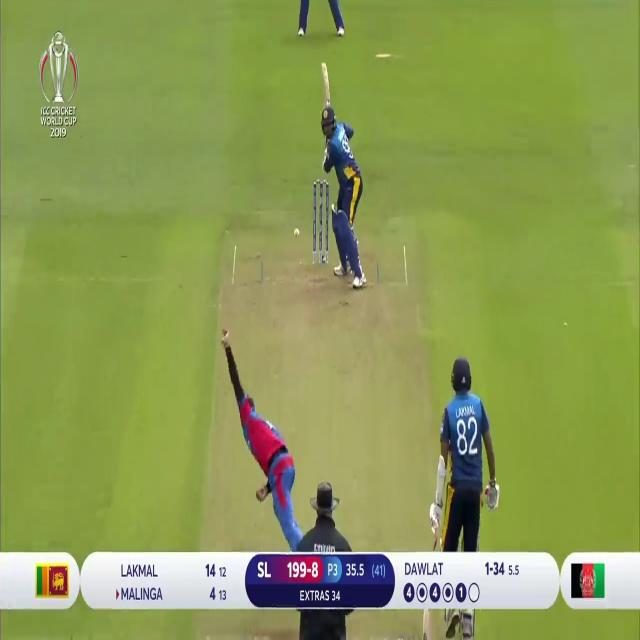ball: (292, 226, 300, 237)
